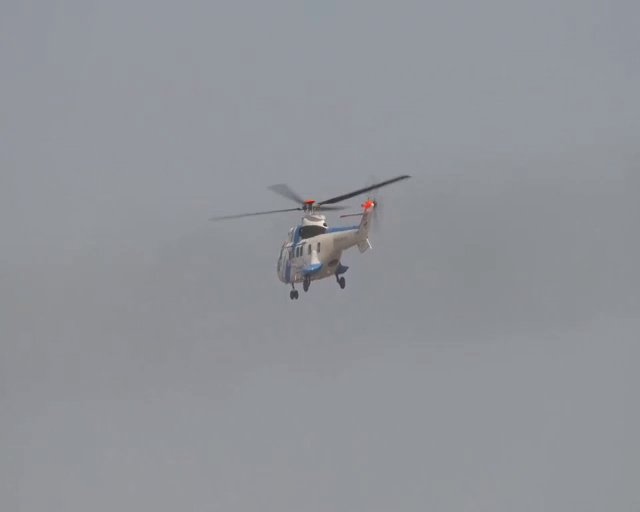HELICOPTER: (210, 175, 415, 299)
